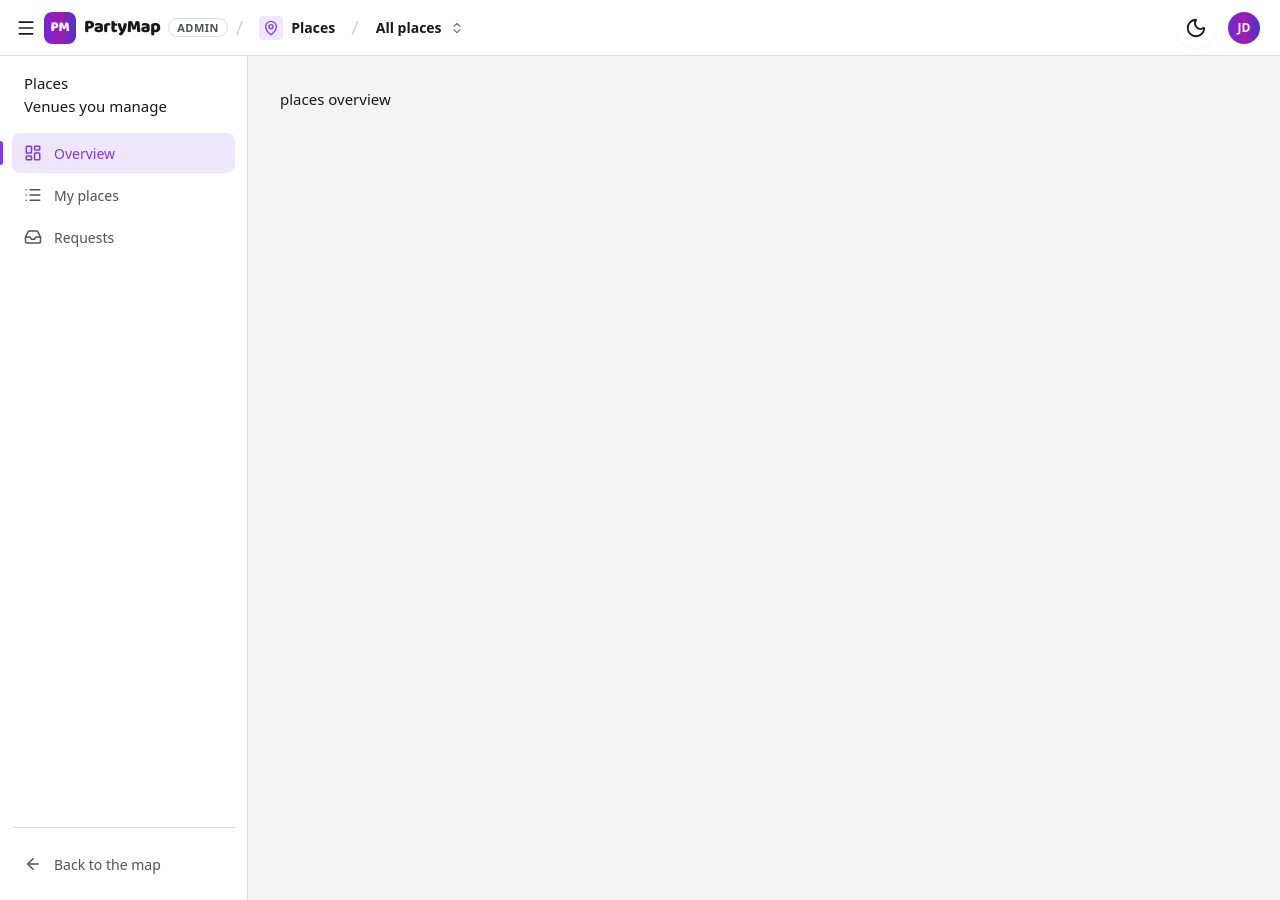
Test: AdminShell › opens the sections in a drawer on phones and closes it after navigating
The image size is (1280, 900).
What coordinates should you click on to do the following:
click the button named "Open navigation"
I would click on:
 (26, 28)
Its box is [16,18,36,38].
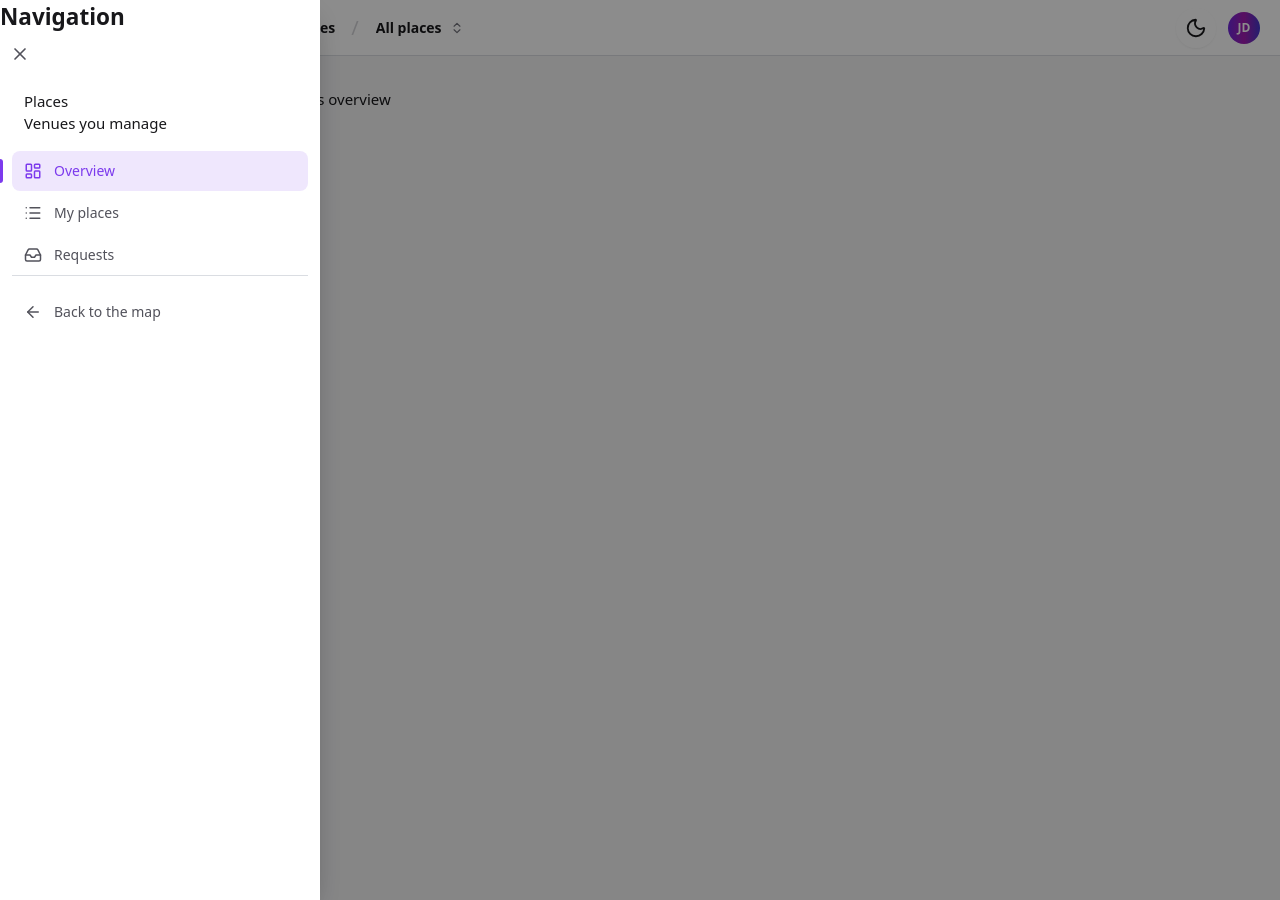
What coordinates should you click on to do the following:
click the link "My places"
I would click on:
 (71, 213)
Its box is [24,203,119,222].
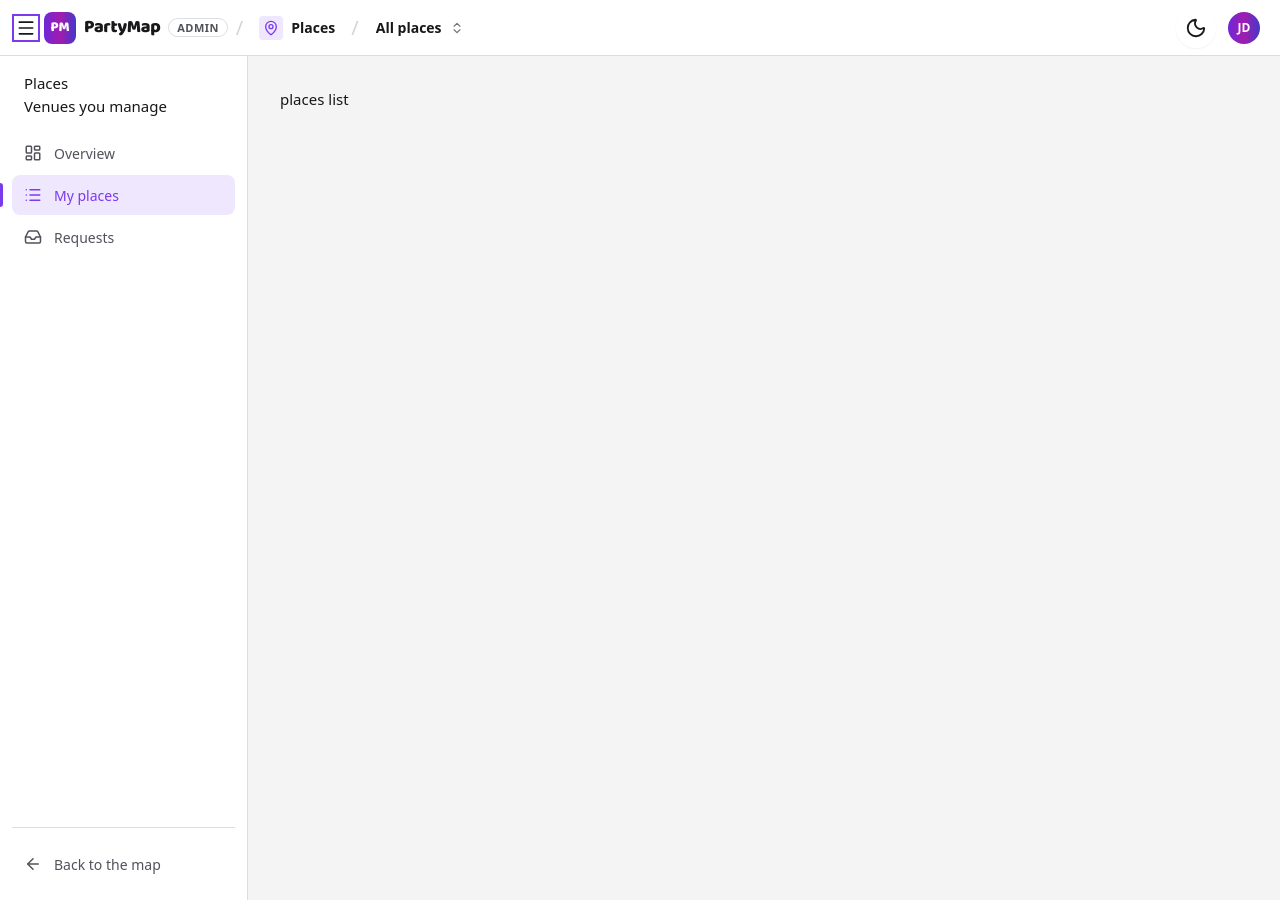
Result: the text "places list" is shown at [280,89,349,109]
Result: the heading "Navigation" is gone
